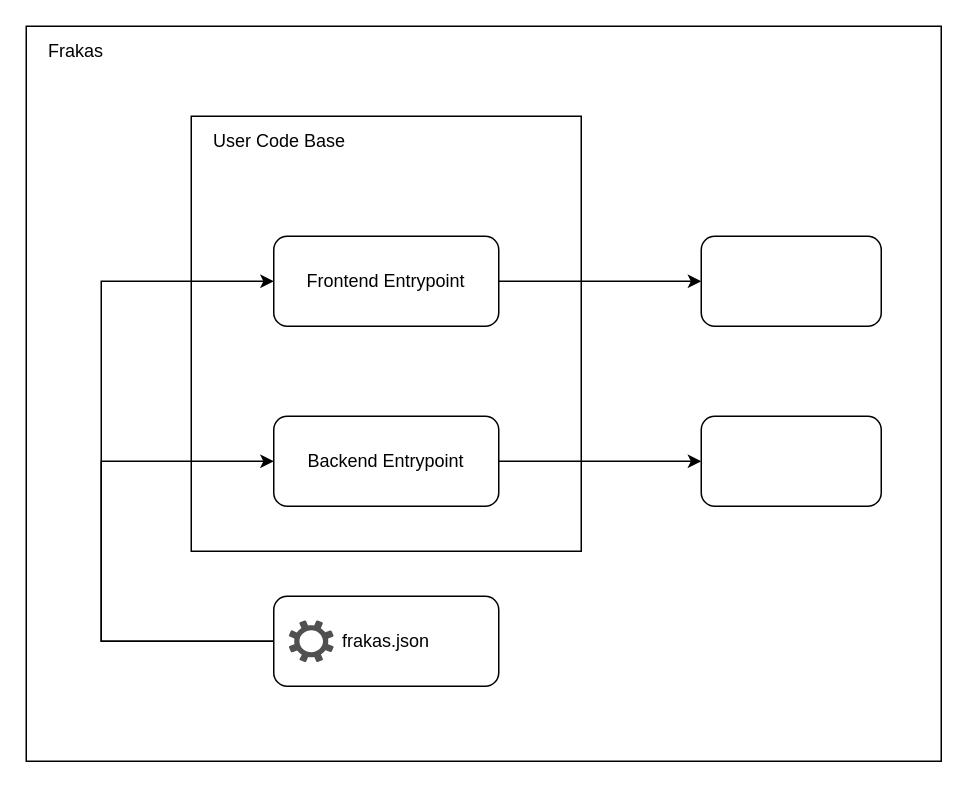
Image size: 968x788. Some labels were removed from this diagram. The shapes that lost their labels are listed below. From the top down, each one's centre as x and y in pixels, then its label:
At pixel 790 280: "FrontendApi".
At pixel 790 460: "BackendApi".
